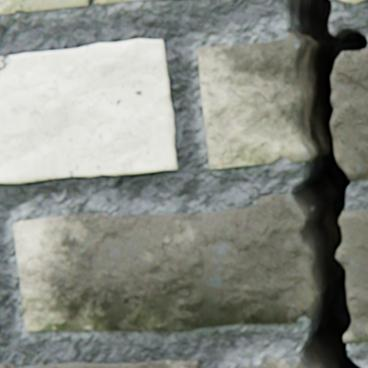brick: (0, 40, 177, 183), (0, 359, 199, 367)
broken_brick: (14, 194, 316, 330), (198, 33, 310, 169), (330, 48, 367, 179), (336, 210, 367, 342), (0, 0, 146, 15), (237, 356, 306, 367), (339, 0, 365, 4)
crack: (287, 0, 367, 367)
